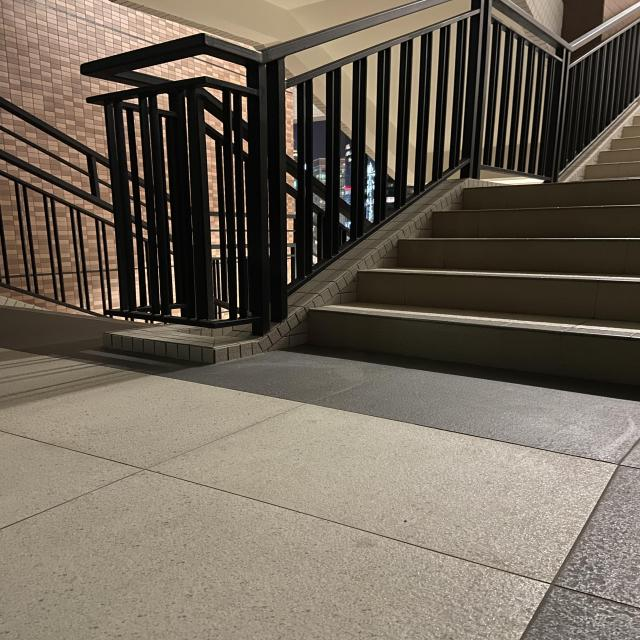Stairs: (288, 162, 640, 398)
